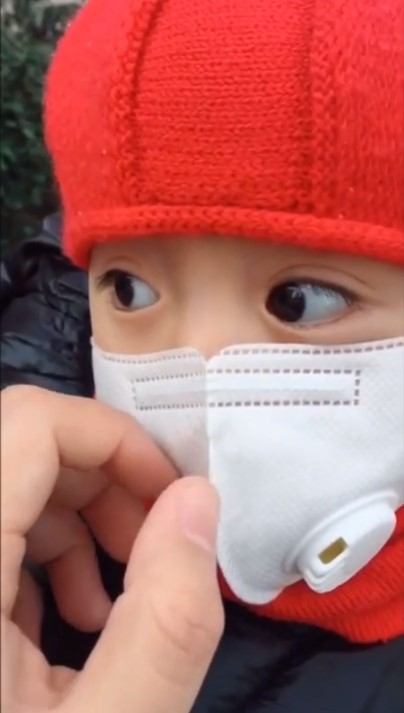face_with_mask: (50, 0, 399, 613)
